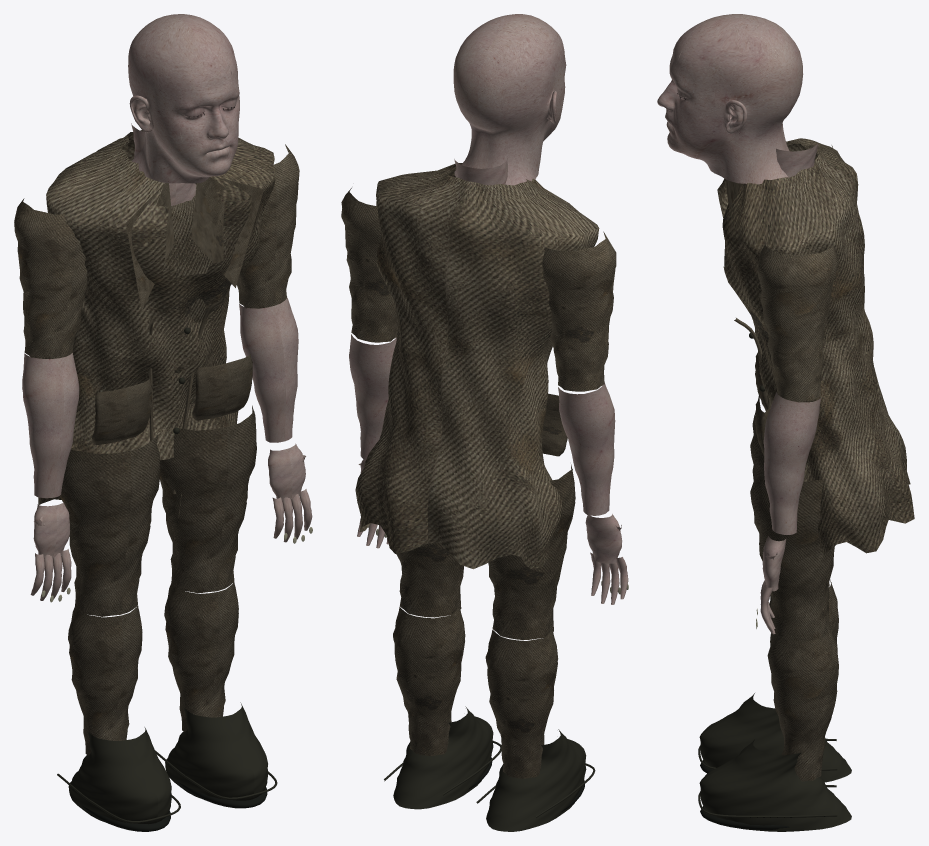
The model's file is listener.glb.
3 views of the same model, side by side, from view 1: azimuth 30°, elevation 25°; view 2: azimuth 150°, elevation 25°; view 3: azimuth 270°, elevation 25° (orthographic). The views are drawn at different scales.
Parts seen in each view (by area): view 1: sculpt (×8), tailored-coat, facial-sculpt, boots-details (×2), pants-listener-details, skin-listener-details (×2), cloth-listener-details, sole-details (×2), neck; view 2: tailored-coat, sculpt (×8), facial-sculpt, boots-details (×2), skin-listener-details, pants-listener-details, neck; view 3: tailored-coat, sculpt (×5), facial-sculpt, boots-details (×2), skin-listener-details, neck, pants-listener-details, sole-details, cloth-listener-details.
Boxes of the visible parts, left/top/right/bottom form: sculpt (×8): left=14, top=144, right=299, bottom=755; tailored-coat: left=32, top=130, right=275, bottom=517; facial-sculpt: left=128, top=14, right=239, bottom=183; boots-details (×2): left=57, top=702, right=277, bottom=824; pants-listener-details: left=91, top=183, right=252, bottom=445; skin-listener-details (×2): left=30, top=443, right=312, bottom=600; cloth-listener-details: left=126, top=177, right=263, bottom=493; sole-details (×2): left=82, top=782, right=267, bottom=831; neck: left=131, top=123, right=196, bottom=205; tailored-coat: left=355, top=163, right=599, bottom=569; sculpt (×8): left=341, top=188, right=616, bottom=778; facial-sculpt: left=453, top=14, right=566, bottom=185; boots-details (×2): left=384, top=706, right=595, bottom=831; skin-listener-details: left=585, top=514, right=628, bottom=604; pants-listener-details: left=542, top=393, right=567, bottom=456; neck: left=454, top=158, right=507, bottom=185; tailored-coat: left=717, top=138, right=914, bottom=555; sculpt (×5): left=750, top=241, right=838, bottom=781; facial-sculpt: left=657, top=14, right=803, bottom=184; boots-details (×2): left=698, top=693, right=851, bottom=831; skin-listener-details: left=760, top=536, right=786, bottom=634; neck: left=776, top=143, right=818, bottom=177; pants-listener-details: left=755, top=335, right=771, bottom=455; sole-details: left=700, top=806, right=789, bottom=830; cloth-listener-details: left=726, top=180, right=769, bottom=406.
Size of the model in its own units: 0.662 by 1.81 by 0.5417.
Materials: 10 (4 with a texture image).
